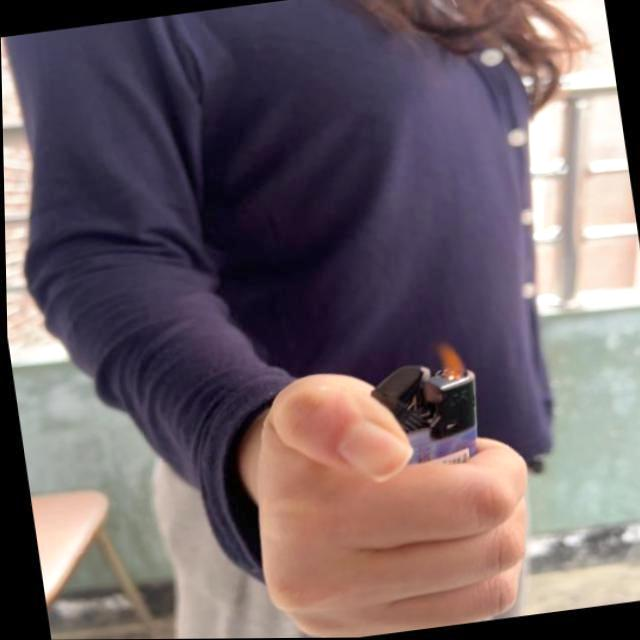fire: (427, 338, 469, 386)
